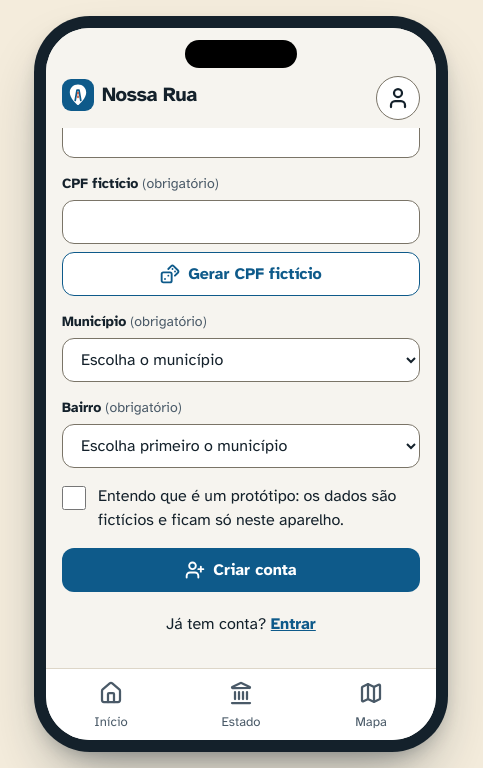
cadastro › mostra todos os erros ao enviar vazio, cada um ligado ao seu campo
(page scrolled)
Step 1. Click the button "Criar conta" → (241, 570), box [62,548,420,592]
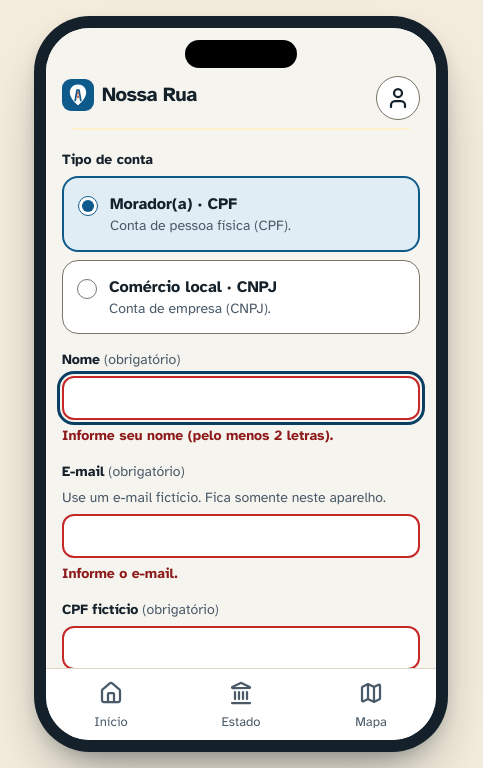
Result: the text "Informe seu nome (pelo menos 2 letras)." is shown at [62,427,333,444]
Result: the text "Informe o e-mail." is shown at [62,565,178,582]
